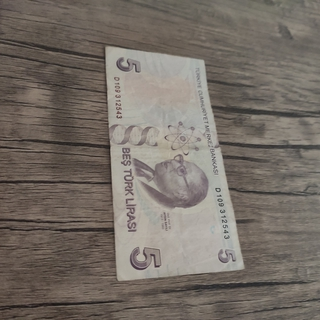5TLBack: (103, 44, 246, 282)
